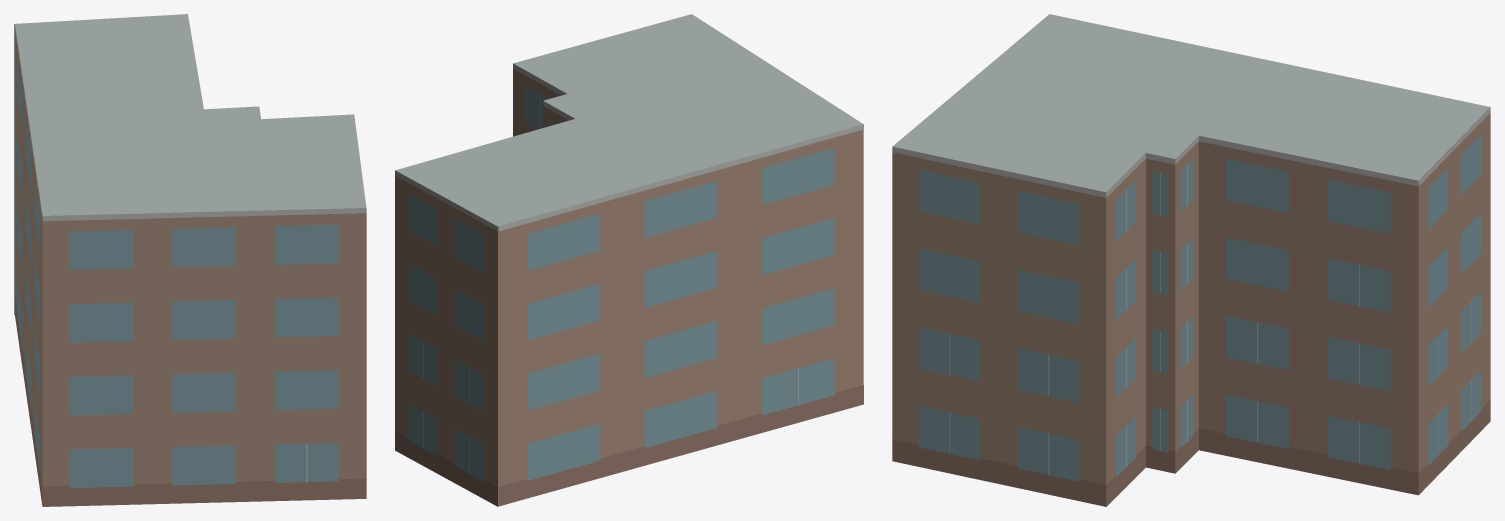
File: survey-upis-32958877.glb
The picture shows the model from 3 angles, left to right: view 1: azimuth 30°, elevation 25°; view 2: azimuth 150°, elevation 25°; view 3: azimuth 270°, elevation 25°; orthographic projection. The views are drawn at different scales.
Visible parts, largest first — view 1: survey-upis-32958877.tmp; view 2: survey-upis-32958877.tmp; view 3: survey-upis-32958877.tmp.
Boxes of the visible parts, bbox=[...] form: survey-upis-32958877.tmp: bbox=[14, 14, 366, 506]; survey-upis-32958877.tmp: bbox=[395, 14, 863, 506]; survey-upis-32958877.tmp: bbox=[892, 14, 1490, 506].
Bounding box in the file's own units: 16.42 × 13.5 × 23.28.
